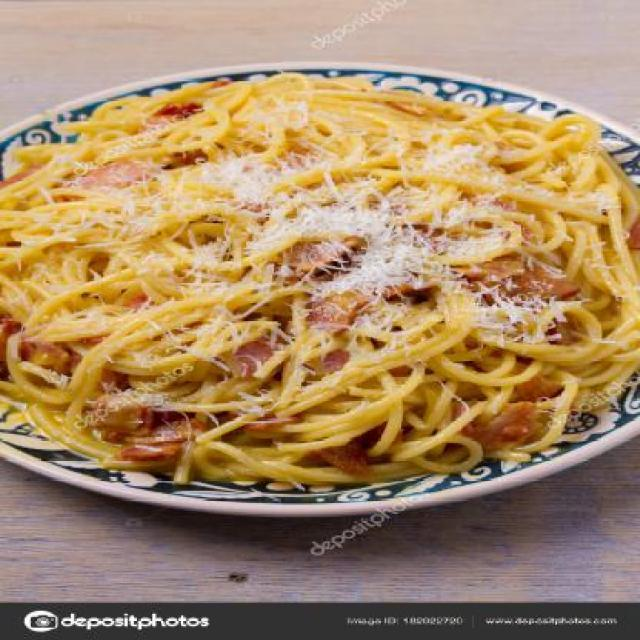Pasta with carbonara sauce: (21, 81, 640, 520)
